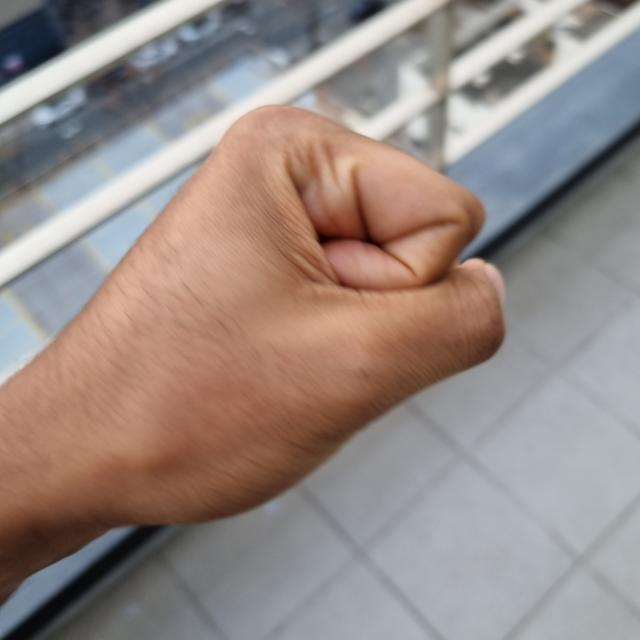Rock: (18, 107, 505, 526)
